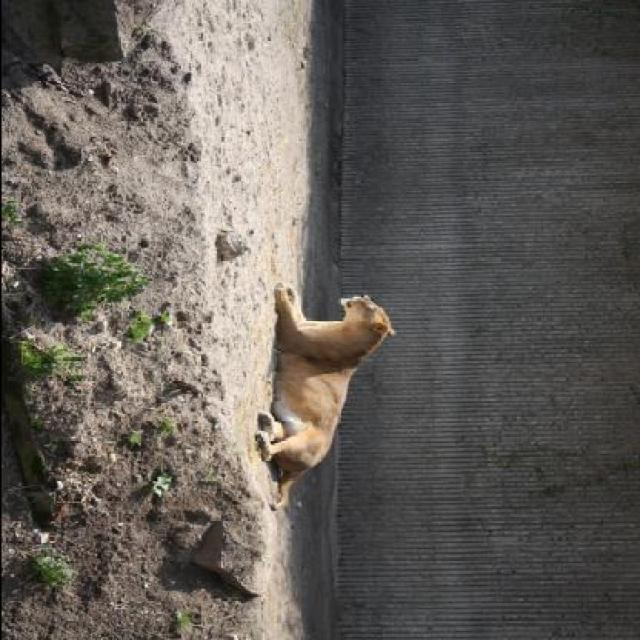Lion: (251, 271, 411, 535)
